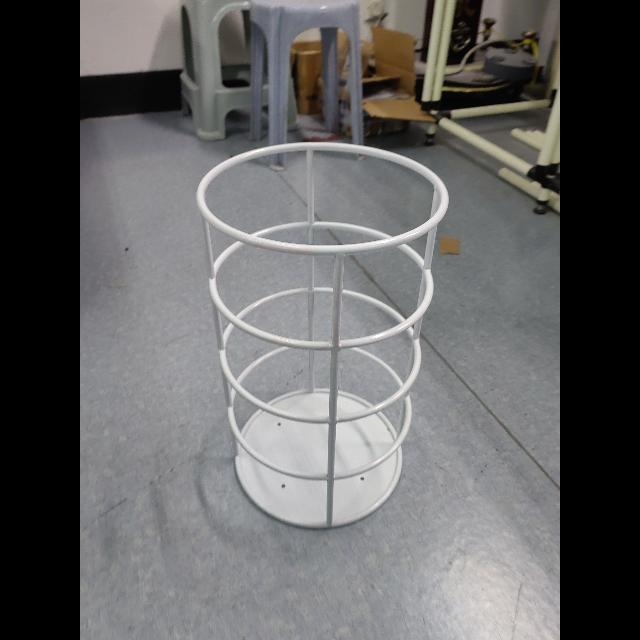S: (194, 139, 451, 531)
